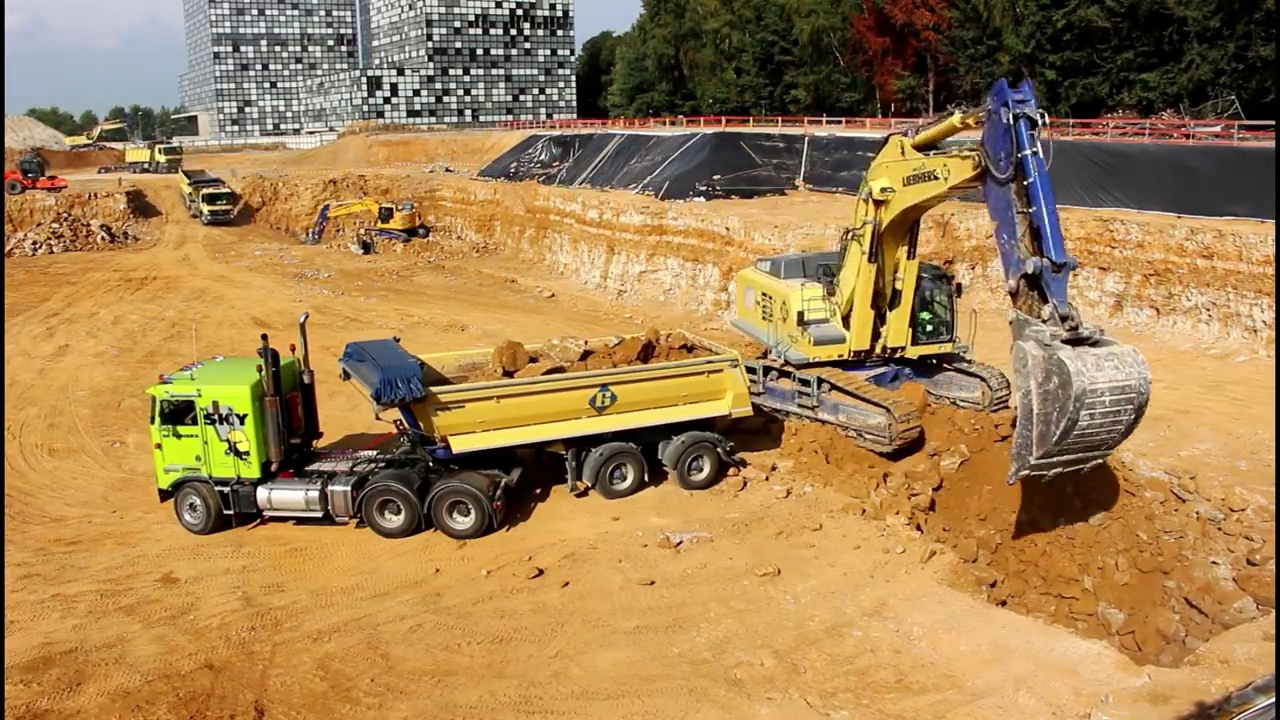compactor: (4, 154, 73, 198)
excavator: (691, 71, 1161, 486), (292, 189, 433, 261), (61, 114, 137, 159)
truck: (139, 305, 764, 545), (174, 162, 249, 228), (121, 136, 187, 178)
